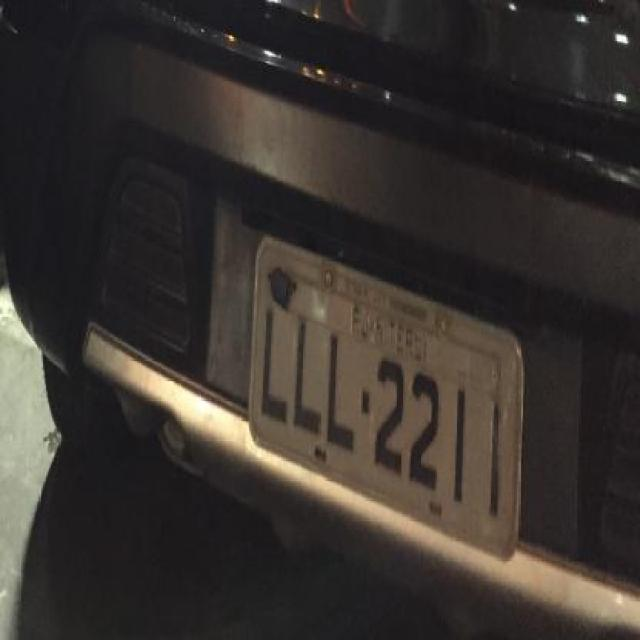old_plate: (241, 228, 533, 568)
